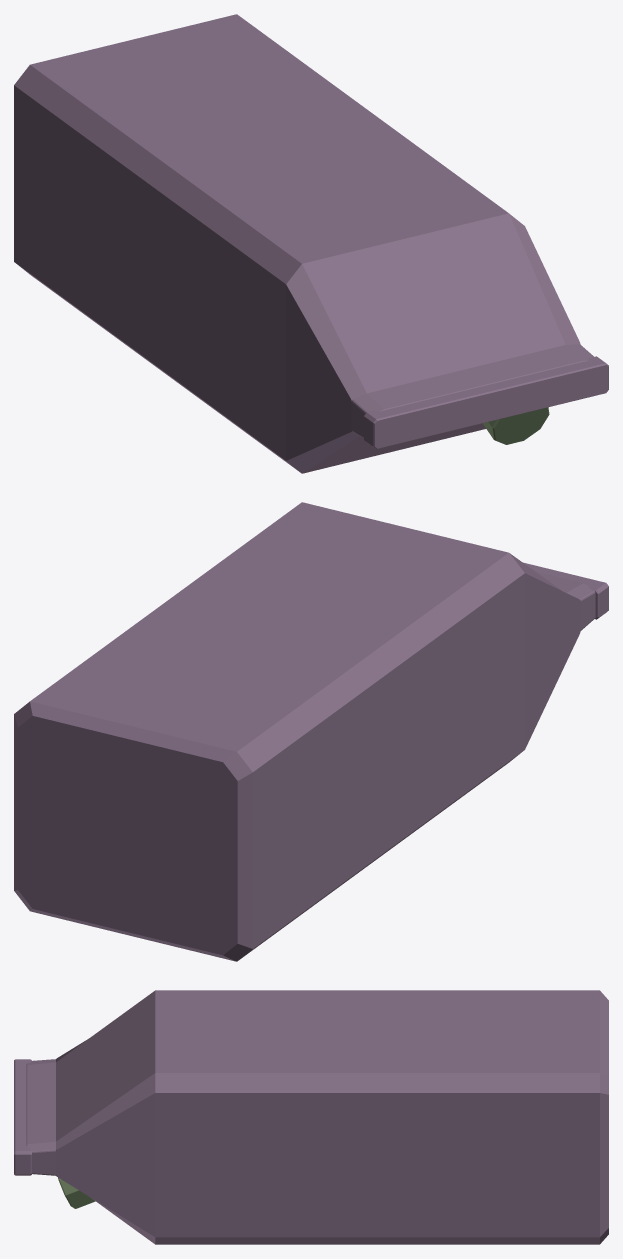
File: grape_juice.glb
The picture shows the model from 3 angles, top to bottom: view 1: azimuth 30°, elevation 25°; view 2: azimuth 150°, elevation 25°; view 3: azimuth 270°, elevation 25°; orthographic projection. The views are drawn at different scales.
Parts seen in each view (by area): view 1: grape_juice; view 2: grape_juice; view 3: grape_juice.
Part boxes in pixels (x1=…): grape_juice: x1=14, y1=14, x2=608, y2=473; grape_juice: x1=14, y1=502, x2=608, y2=961; grape_juice: x1=14, y1=990, x2=608, y2=1244.
Size of the model in its own units: 0.075 by 0.0682 by 0.198.
